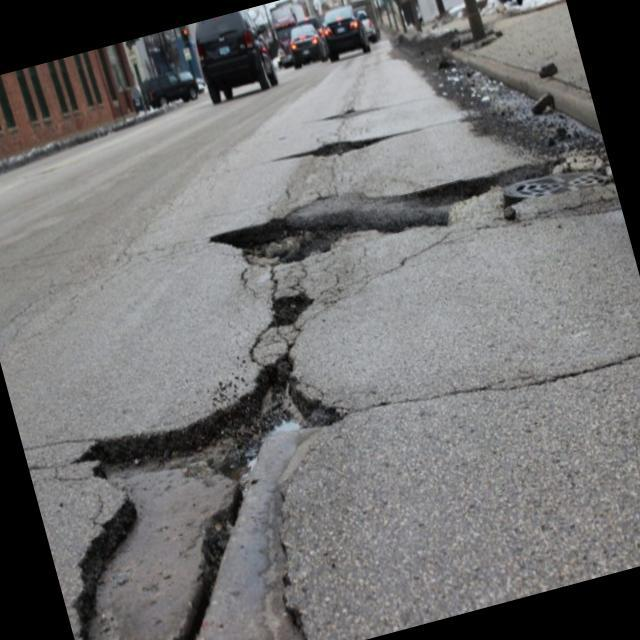Pothole: (70, 365, 357, 640), (221, 190, 349, 278), (505, 146, 595, 224), (414, 160, 497, 222), (308, 125, 384, 172)
